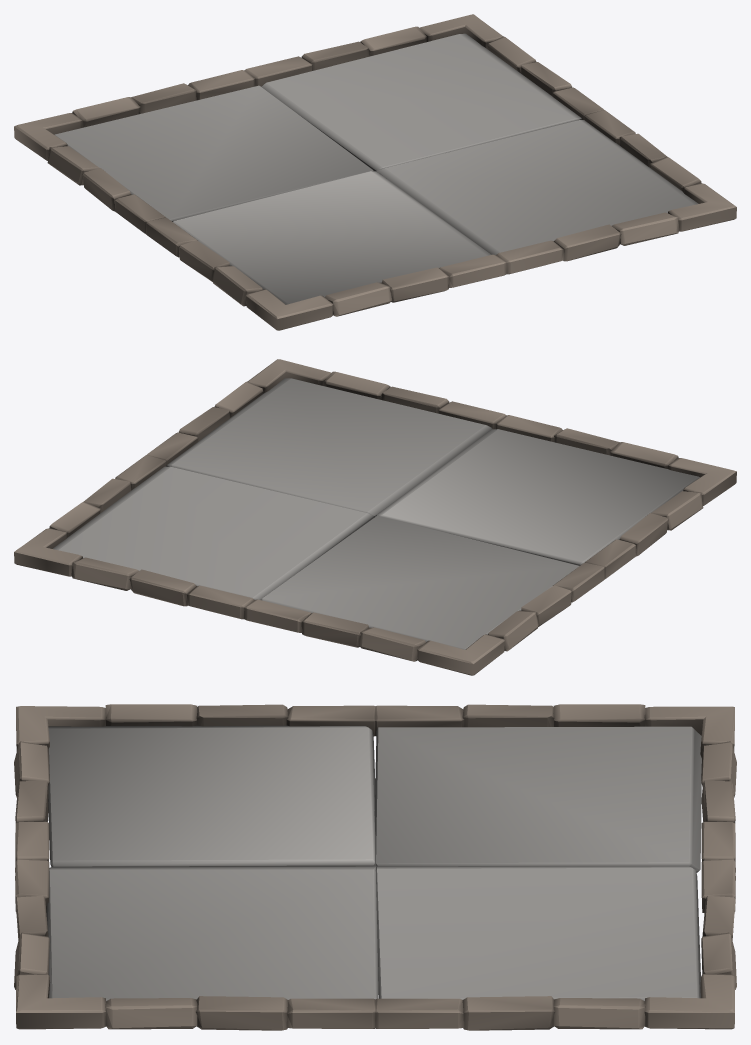
The model's file is floor_tilesBig_frame.FBX.
The picture shows the model from 3 angles, top to bottom: view 1: azimuth 30°, elevation 25°; view 2: azimuth 150°, elevation 25°; view 3: azimuth 270°, elevation 25°; orthographic projection. The views are drawn at different scales.
Parts seen in each view (by area): view 1: floor_tilesBig_frame; view 2: floor_tilesBig_frame; view 3: floor_tilesBig_frame.
Boxes of the visible parts, <box> form: floor_tilesBig_frame: <box>14,14,736,330</box>; floor_tilesBig_frame: <box>14,359,736,675</box>; floor_tilesBig_frame: <box>14,704,736,1030</box>.
Bounding box in the file's own units: 4.11 × 0.1567 × 4.08.
